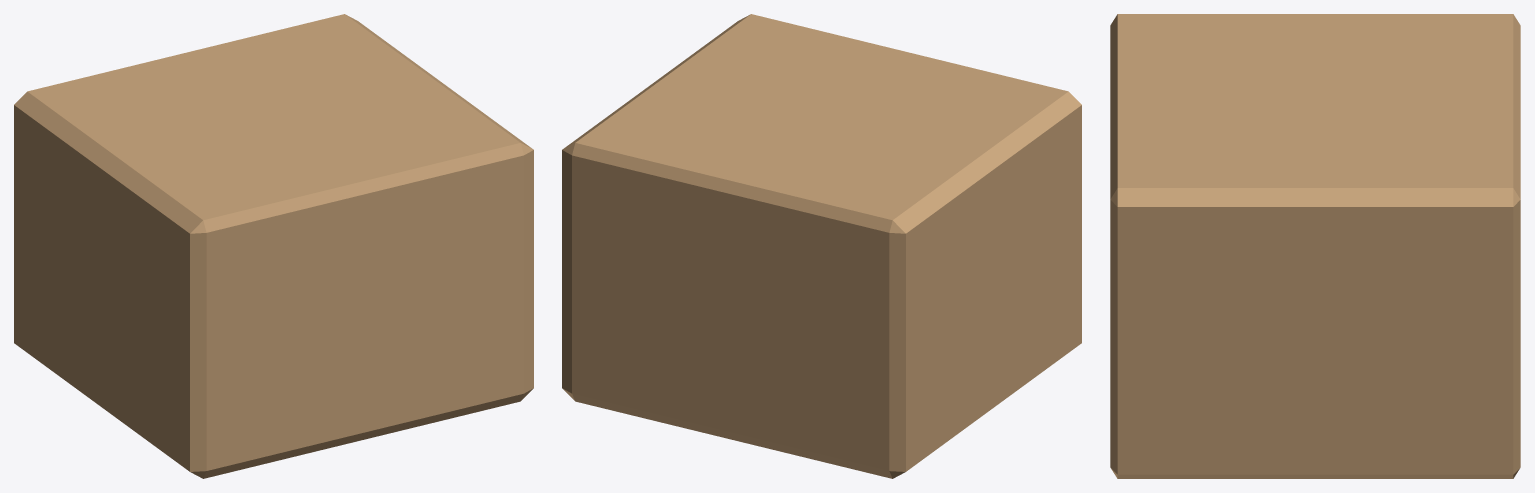
Rendered from Prop_Box_CardBoard_C.fbx.
3 views of the same model, side by side, from view 1: azimuth 30°, elevation 25°; view 2: azimuth 150°, elevation 25°; view 3: azimuth 270°, elevation 25° (orthographic). The views are drawn at different scales.
Parts seen in each view (by area): view 1: Prop_Box_CardBoard_C; view 2: Prop_Box_CardBoard_C; view 3: Prop_Box_CardBoard_C.
Part boxes in pixels (x1,y1,x2,y2): Prop_Box_CardBoard_C: (14,14,533,478); Prop_Box_CardBoard_C: (562,14,1081,478); Prop_Box_CardBoard_C: (1110,14,1520,478).
Bounding box in the file's own units: 45 × 48.97 × 35.2.
